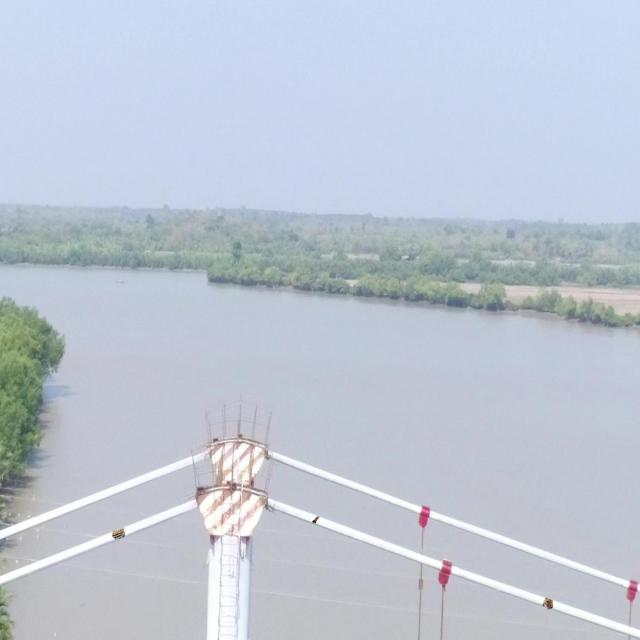corrosion: (112, 527, 125, 541), (542, 597, 554, 610), (311, 516, 320, 524)
